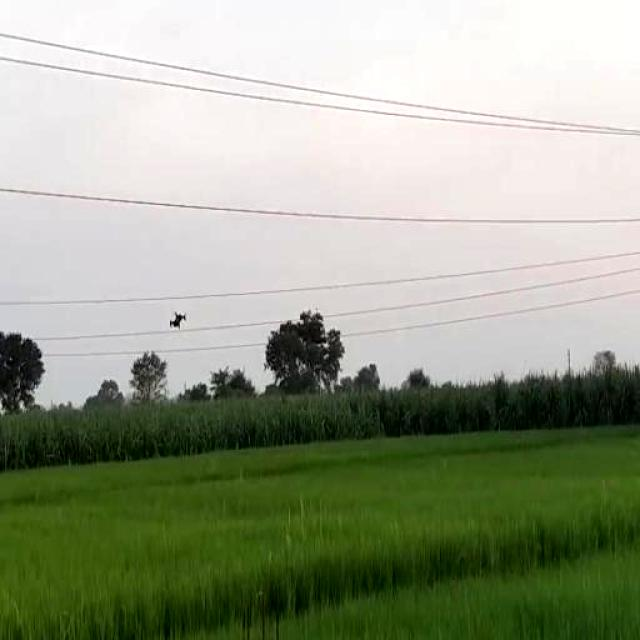bird: (169, 285, 196, 348)
